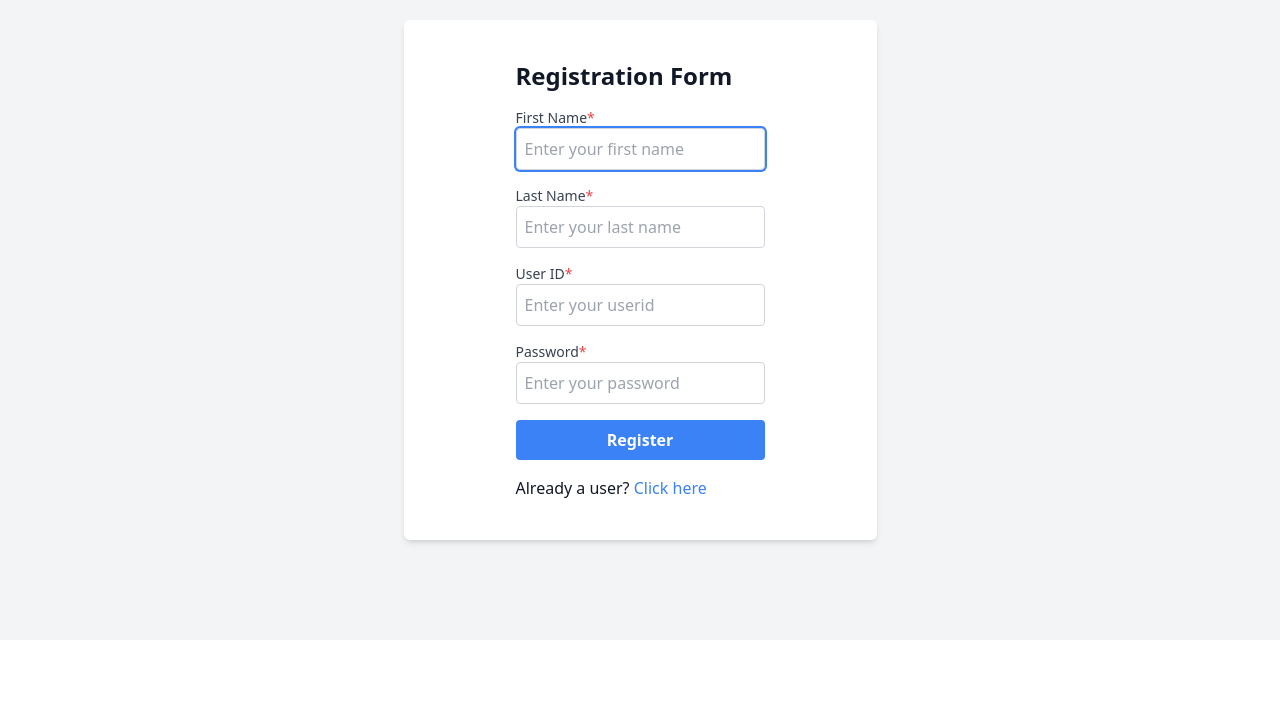
Test: Registration Form › displays error message from API
This screenshot has width=1280, height=720.
Type "John" into the field with placeholder "Enter your first name".
click(640, 149); type("John")  # box [516, 128, 764, 170]
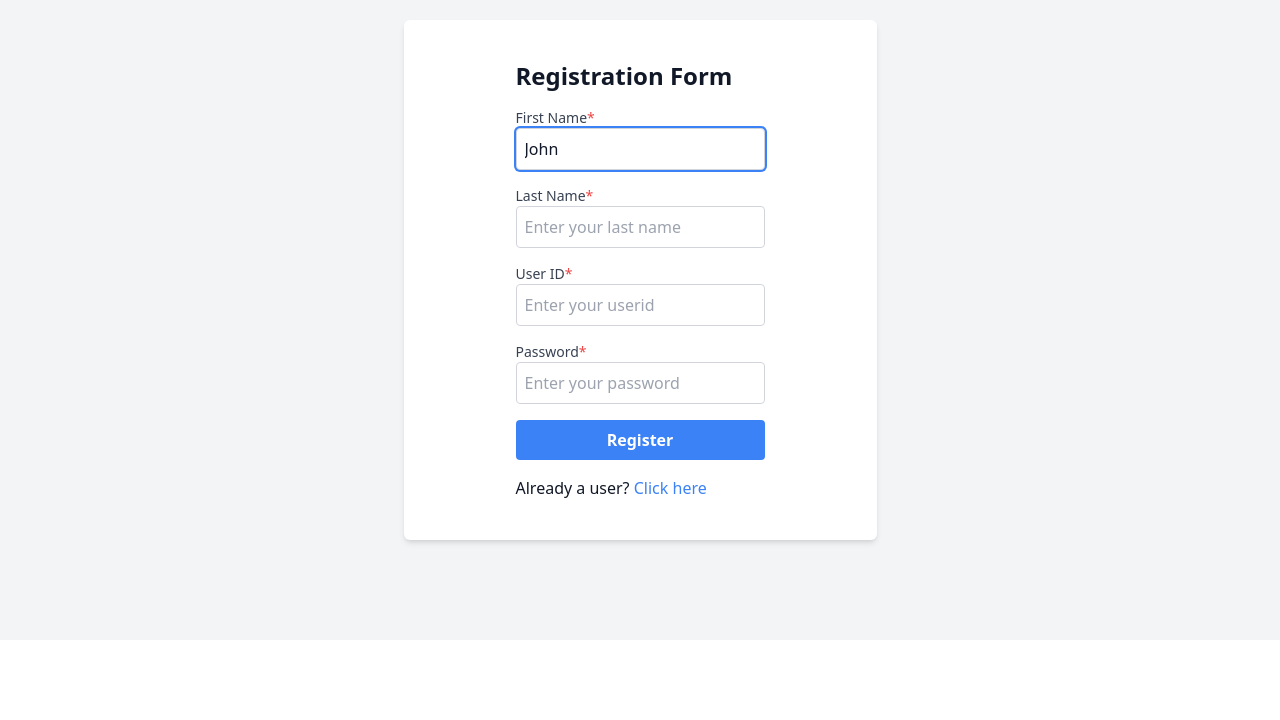
Type "Doe" into the field with placeholder "Enter your last name".
click(640, 227); type("Doe")  # box [516, 206, 764, 248]
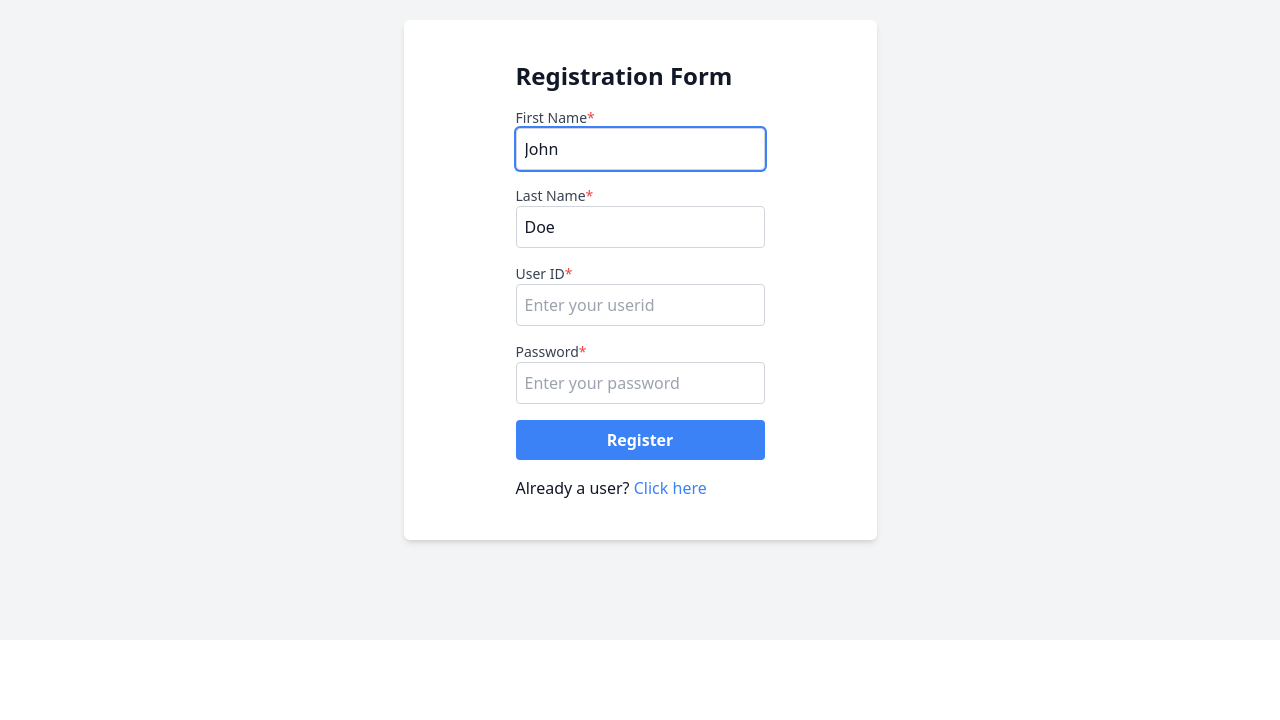
Type "johnDoe123" into the field with placeholder "Enter your userid".
click(640, 305); type("johnDoe123")  # box [516, 284, 764, 326]
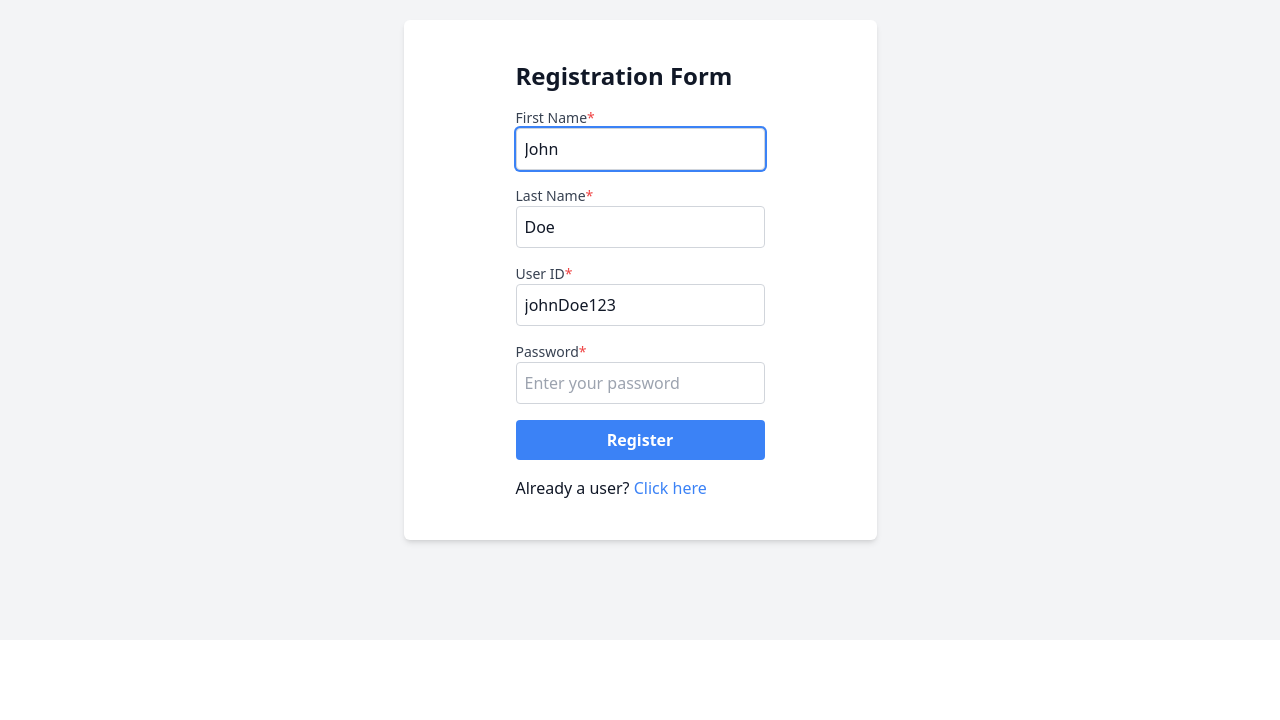
Type "Password@123" into the password field with placeholder "Enter your password".
click(640, 383); type("Password@123")  # box [516, 362, 764, 404]
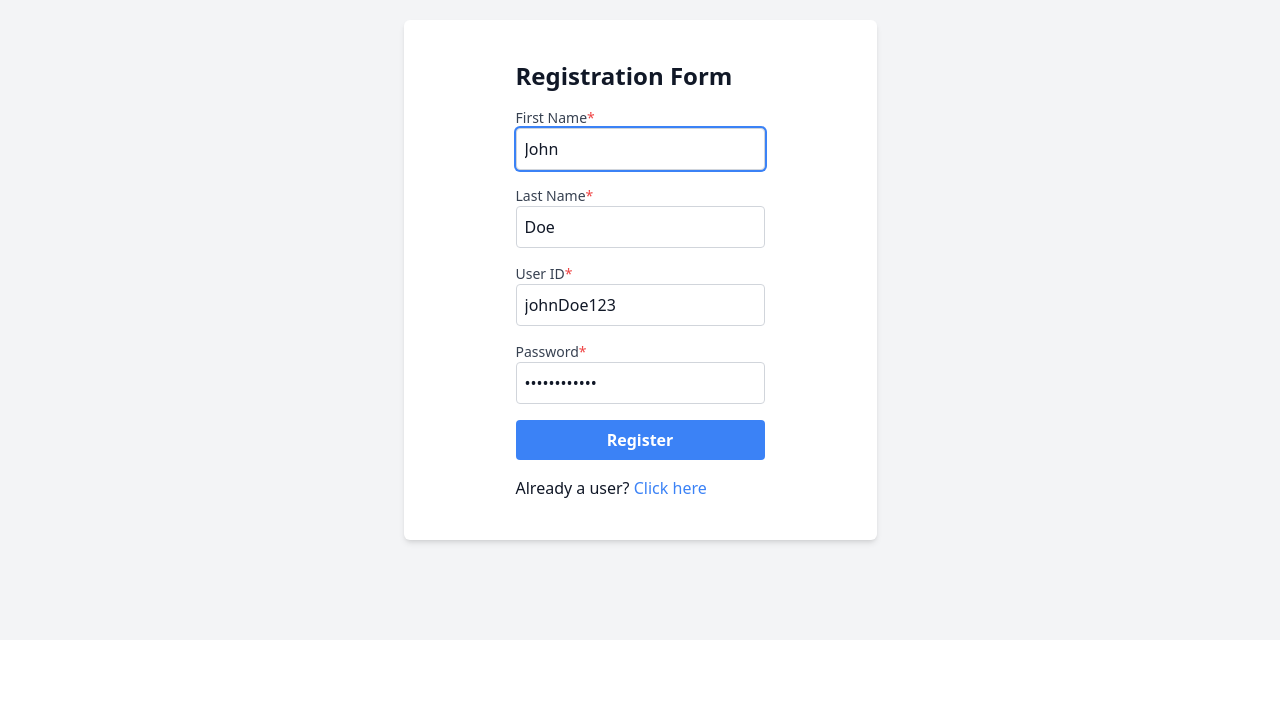
Click the button "Register".
click(640, 440)  # box [516, 420, 764, 460]
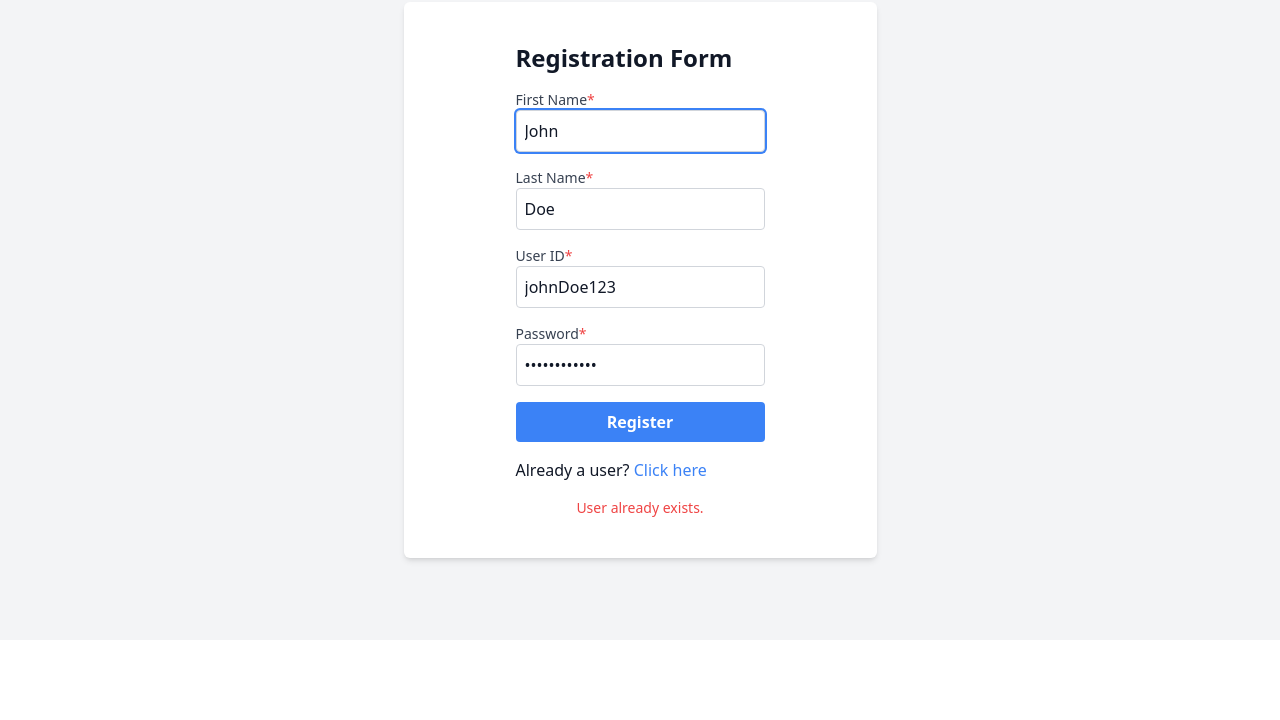
Expected: the text "User already exists." is shown, [576, 498, 704, 517]
